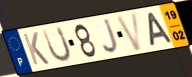8: (74, 23, 97, 58)
A: (146, 11, 174, 48)
J: (102, 17, 121, 55)
K: (21, 31, 51, 66)
U: (41, 25, 73, 64)
V: (115, 11, 144, 53)
